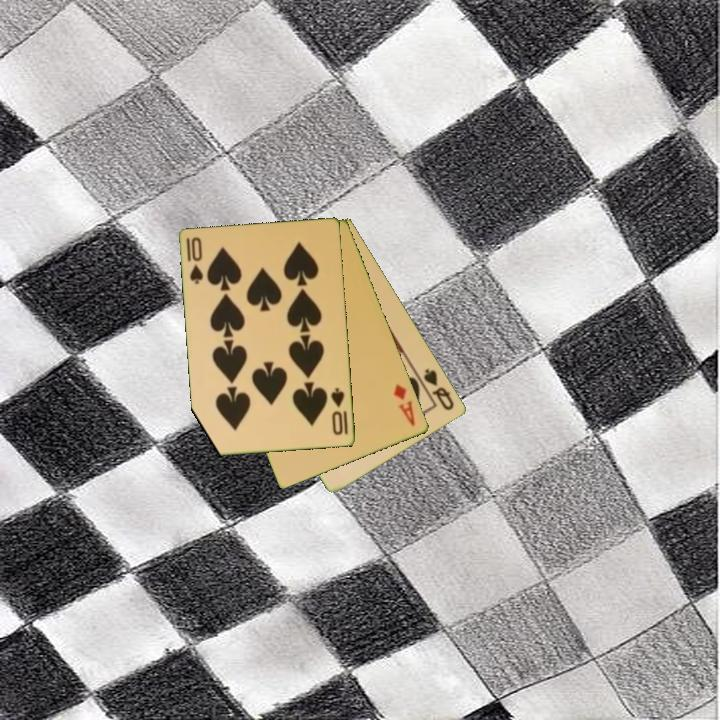10s: (328, 385, 351, 438), (183, 234, 206, 287)
Ad: (390, 380, 418, 429)
Qs: (420, 365, 457, 413)
